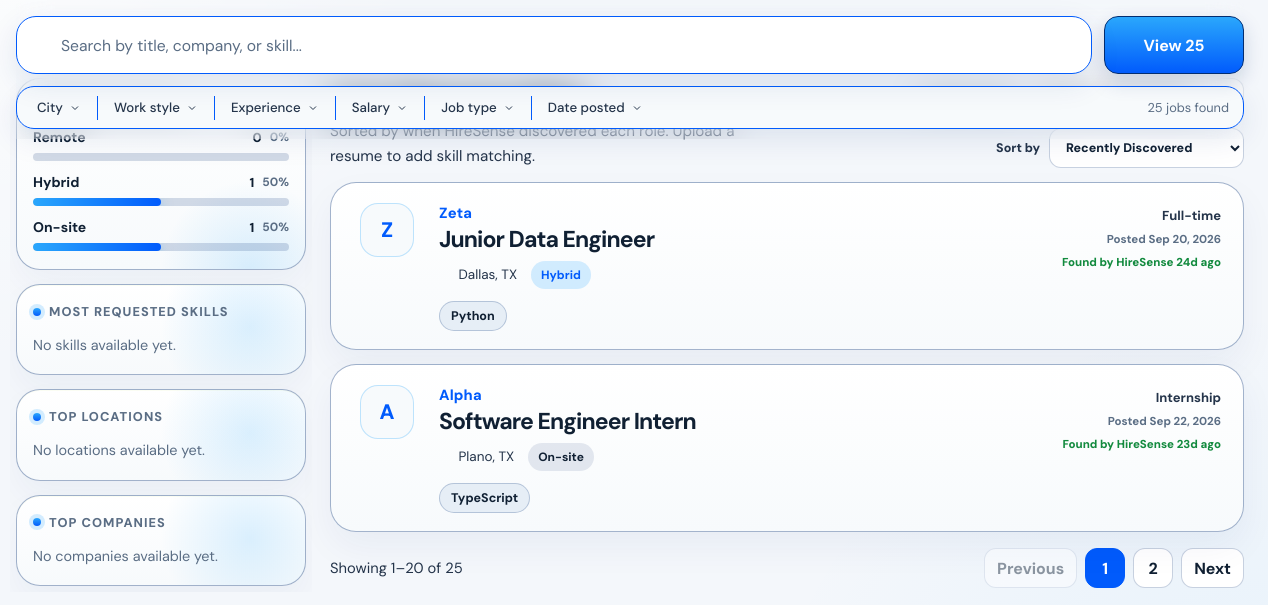
Home job discovery › requests the next page instead of rendering the whole feed
Click the button "2" at (1153, 568), box [1133,548,1173,588]
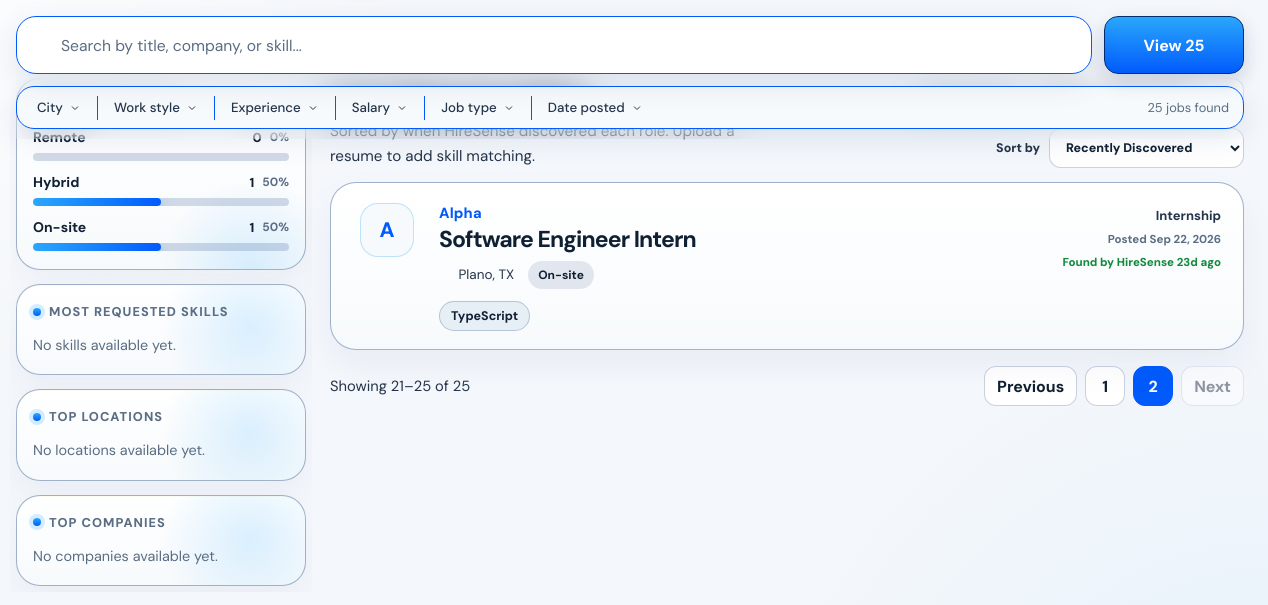
Check: the text "Software Engineer Intern" is shown, box [439,228,696,252]
Check: the number of links is 1, box [330,182,1244,350]
Check: the text "Showing 21–25 of 25" is shown, box [330,376,470,396]
